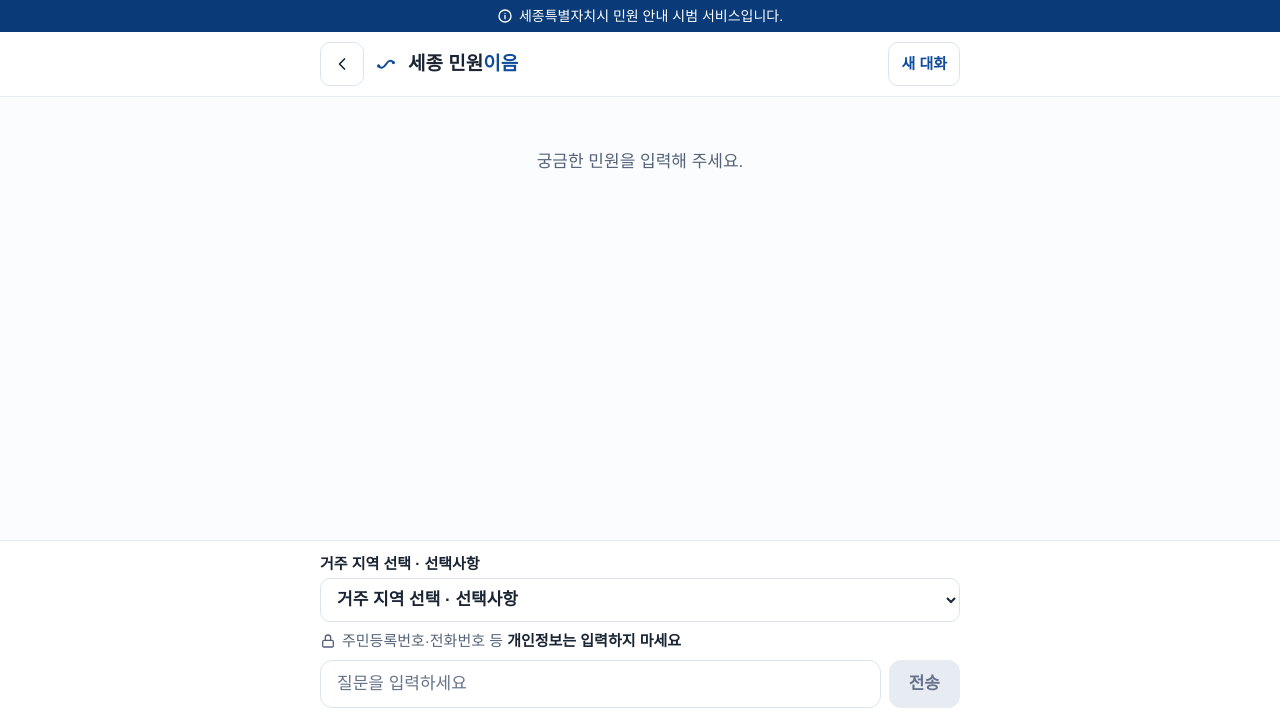
Test case: citizen chat screen › starts a new conversation by clearing memory state and returning focus without sending
In the field named "질문 입력": [600, 684] box [320,660,881,708], type "전입신고 알려줘"
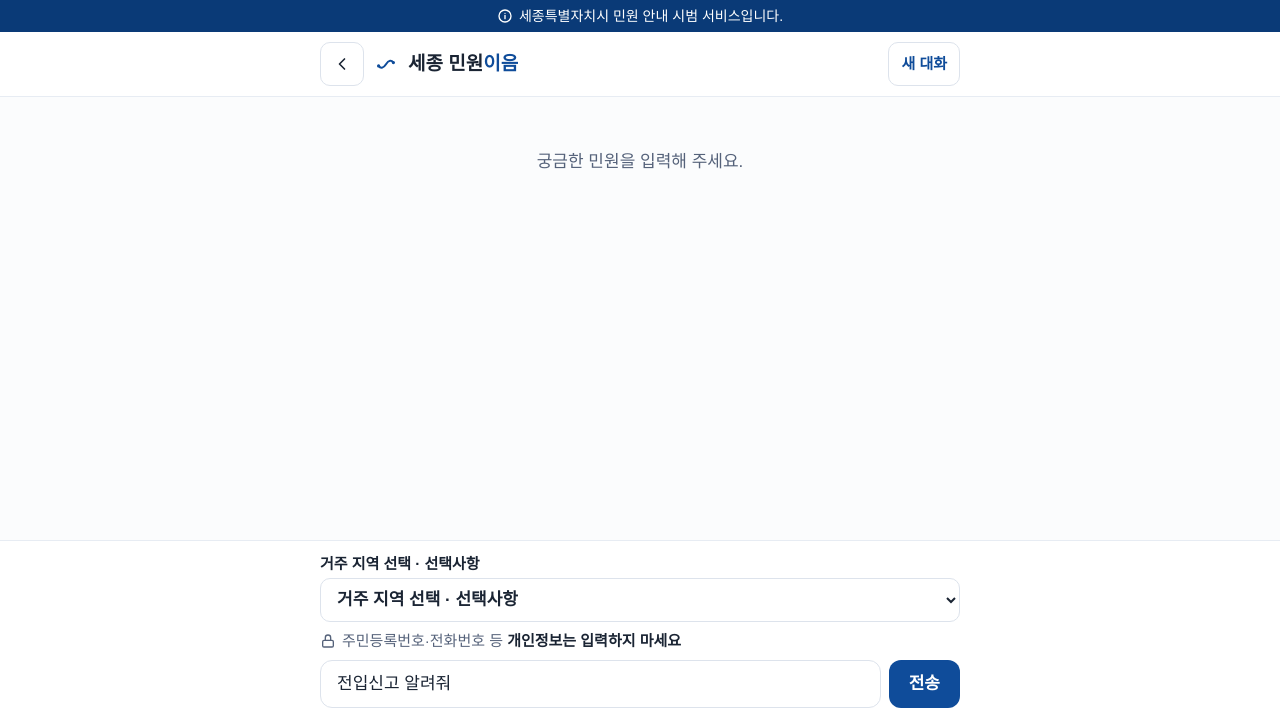
Click the button "전송": [924, 684] box [889,660,960,708]
(page scrolled)
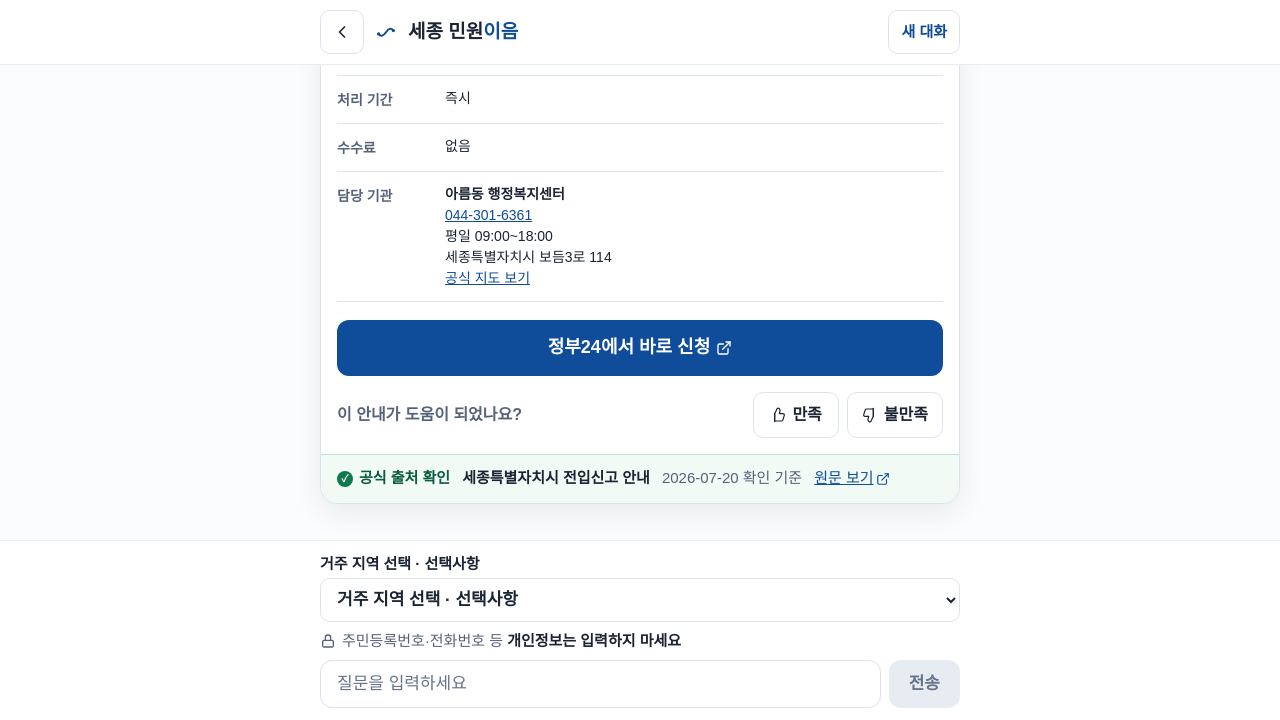
Now the text "세종특별자치시 전입신고 안내" is shown, box [462,467,650,490]
Click the button "새 대화": [924, 32] box [888,10,960,54]
(page scrolled)
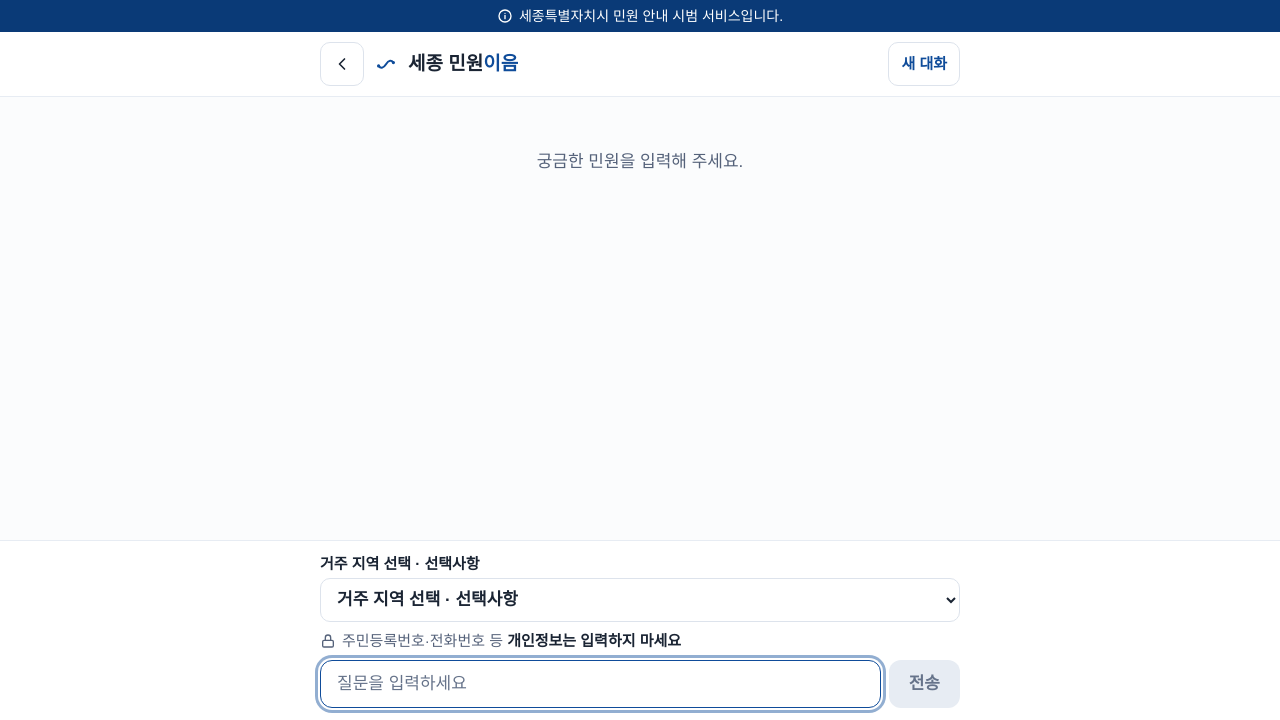
Now the text "세종특별자치시 전입신고 안내" is gone
